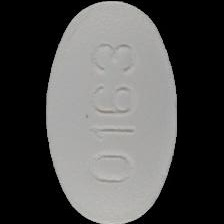61786-294: (0, 0, 224, 224)
